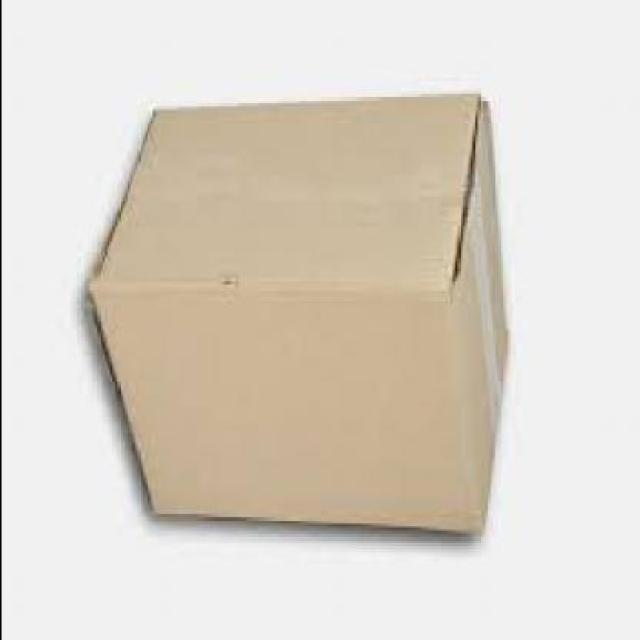CARDBOARD: (89, 100, 512, 540)
